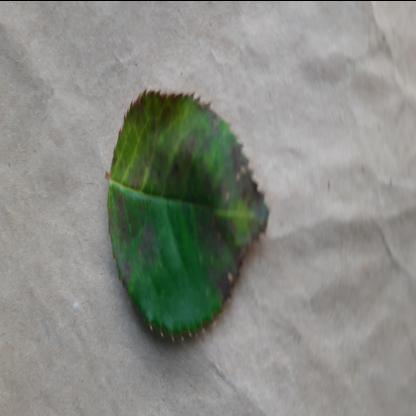downy-mildew: (108, 86, 270, 342)
